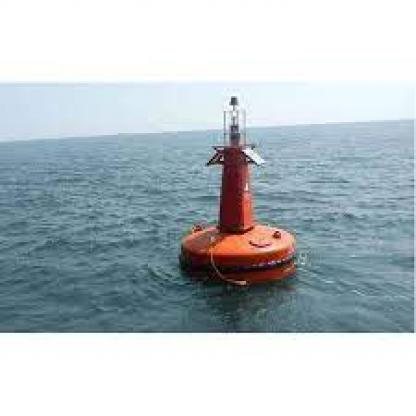buoy: (168, 91, 311, 294)
